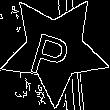P_N: (30, 20, 79, 79)
